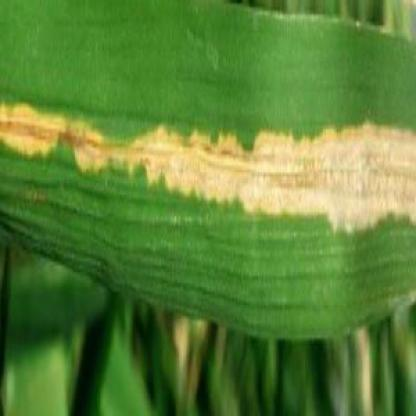Blight: (2, 86, 416, 251)
